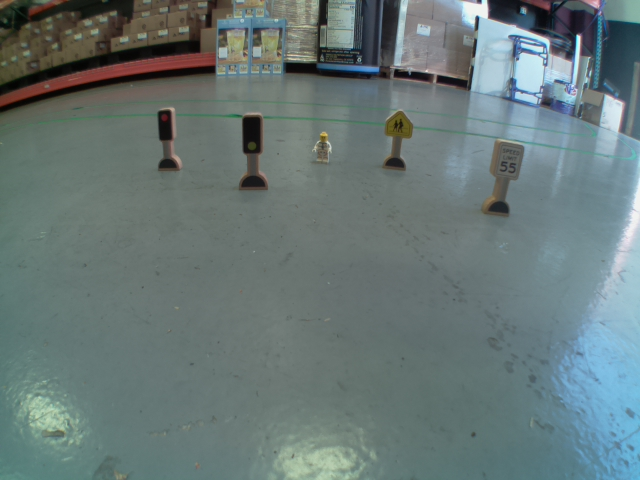Green Traffic Light: (242, 112, 265, 158)
Red Traffic Light: (153, 106, 177, 144)
Speed Limit 55: (494, 138, 524, 180)
YIELD: (385, 107, 414, 143)
person: (308, 129, 335, 166)
